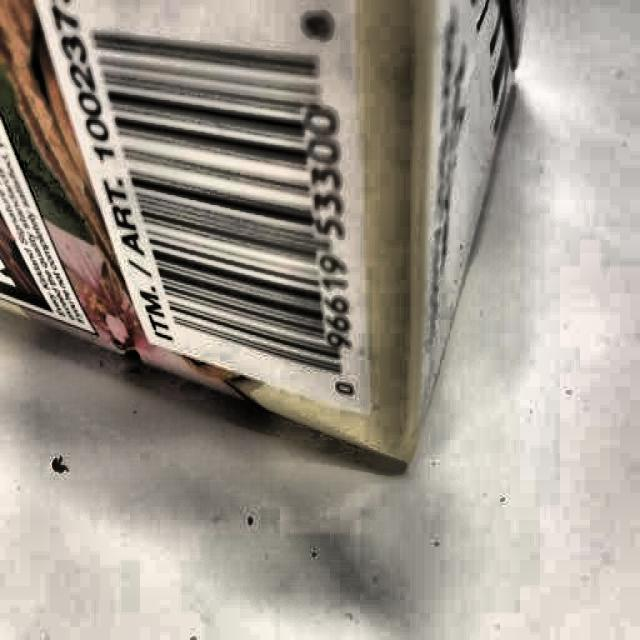cardboard: (1, 3, 522, 471)
